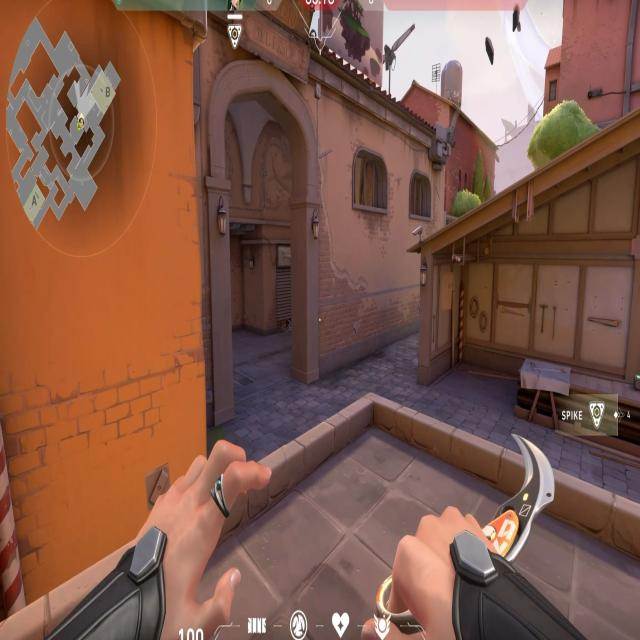B_Garage_Left: (416, 238, 558, 418)
Throwables: (351, 145, 391, 215), (409, 167, 434, 221)
